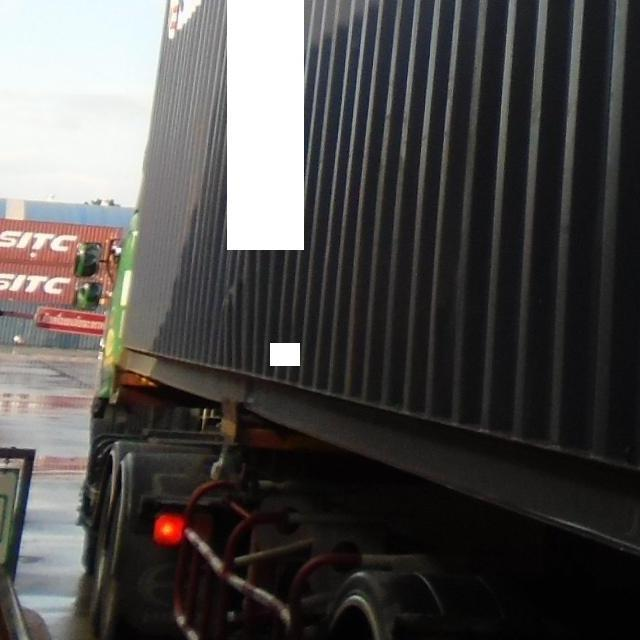dent: (212, 271, 247, 319)
